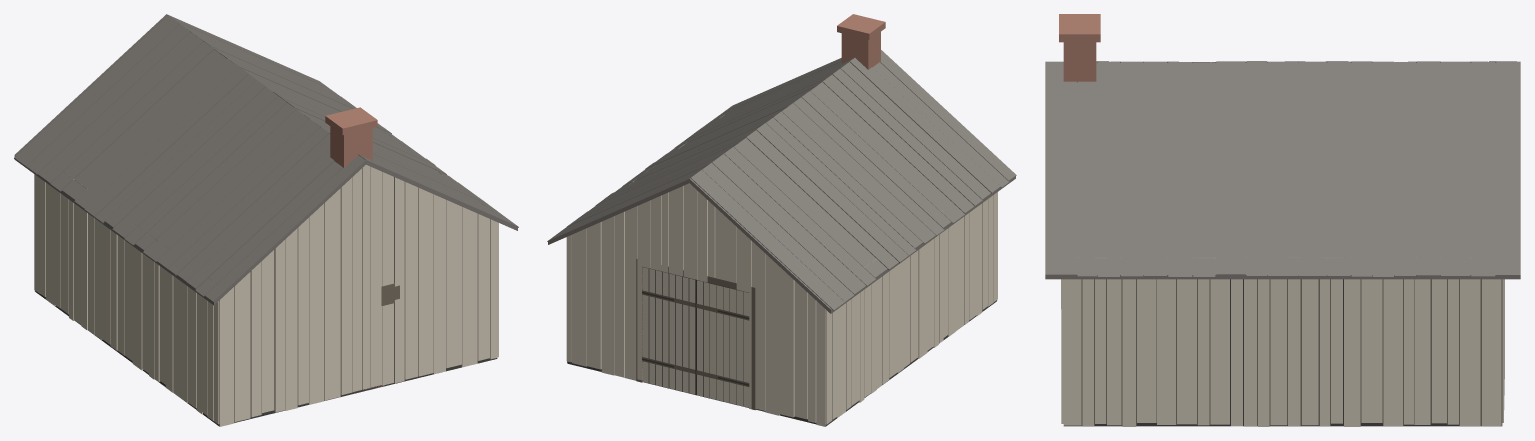
Rendered from recon_1835_blk_randolph_clark_w1_10__inferred_1835.glb.
3 views of the same model, side by side, from view 1: azimuth 30°, elevation 25°; view 2: azimuth 150°, elevation 25°; view 3: azimuth 270°, elevation 25° (orthographic). The views are drawn at different scales.
Parts seen in each view (by area): view 1: recon_1835_blk_randolph_clark_w1_10__inferred_1835; view 2: recon_1835_blk_randolph_clark_w1_10__inferred_1835; view 3: recon_1835_blk_randolph_clark_w1_10__inferred_1835.
Part boxes in pixels (x1,y1,x2,y2): recon_1835_blk_randolph_clark_w1_10__inferred_1835: [14, 14, 518, 426]; recon_1835_blk_randolph_clark_w1_10__inferred_1835: [547, 14, 1016, 426]; recon_1835_blk_randolph_clark_w1_10__inferred_1835: [1045, 14, 1520, 426].
Size of the model in its own units: 7.75 by 6.47 by 8.67.
